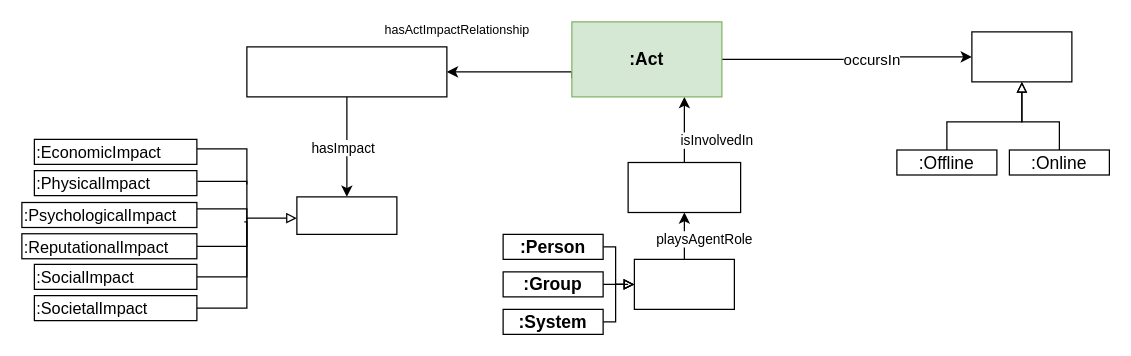
Image size: 1131x356. Some labels were removed from this diagram. Each missing label, with the centre of its shape:
:ActImpact Relationship: [346,71]
:Agent: [683,283]
:AgentRole: [684,186]
:Impact: [346,215]
:Space: [1021,56]
